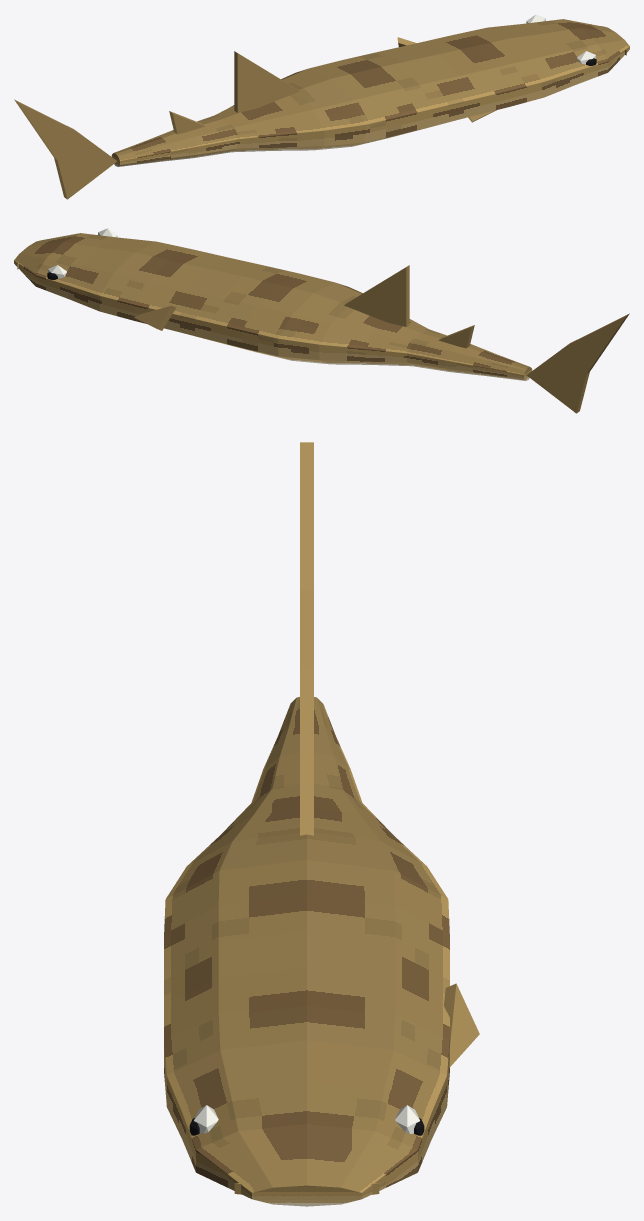
File: spotted_wobbegong.glb
3 views of the same model, one above another, from view 1: azimuth 30°, elevation 25°; view 2: azimuth 150°, elevation 25°; view 3: azimuth 270°, elevation 25° (orthographic). The views are drawn at different scales.
Parts seen in each view (by area): view 1: fish_spotted_wobbegong; view 2: fish_spotted_wobbegong; view 3: fish_spotted_wobbegong.
Boxes of the visible parts, <box> form: fish_spotted_wobbegong: <box>14,14,629,199</box>; fish_spotted_wobbegong: <box>14,228,629,413</box>; fish_spotted_wobbegong: <box>164,442,479,1206</box>.
Size of the model in its own units: 1.2 by 0.2146 by 0.2733.
Materials: 4 (1 with a texture image).
